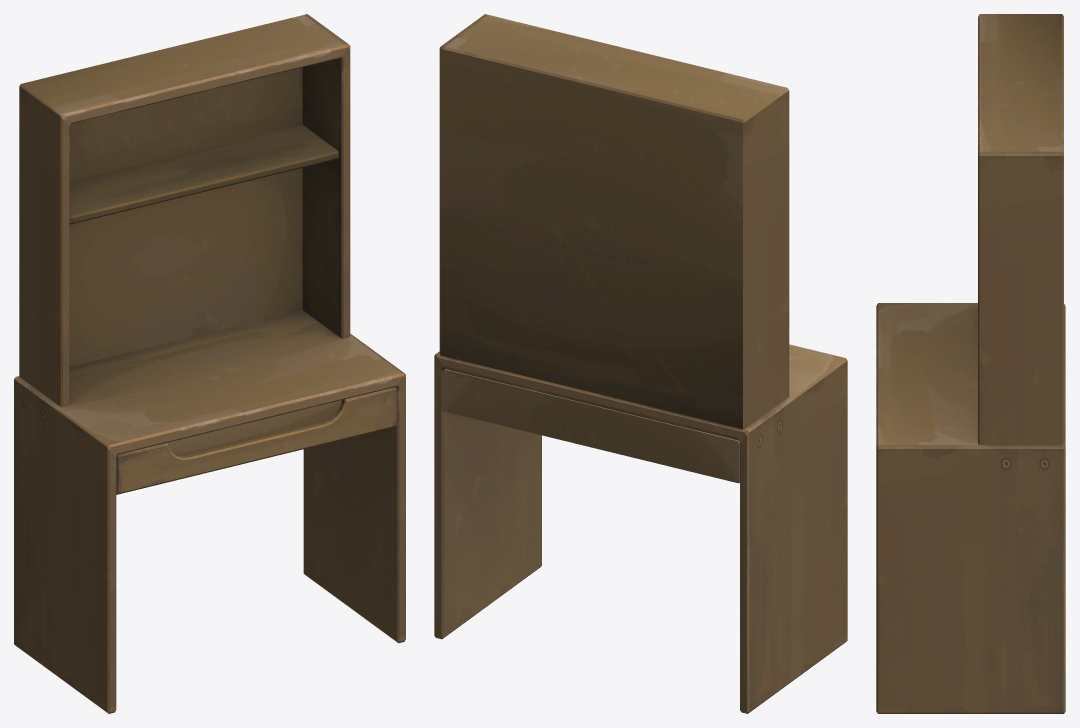
The model's file is Escritorio_H2.obj.
3 renders of one model, left to right at view 1: azimuth 30°, elevation 25°; view 2: azimuth 150°, elevation 25°; view 3: azimuth 270°, elevation 25°, orthographic. The views are drawn at different scales.
Parts seen in each view (by area): view 1: Escritorio_H2; view 2: Escritorio_H2; view 3: Escritorio_H2.
Part boxes in pixels (x1=…): Escritorio_H2: x1=14, y1=14, x2=405, y2=713; Escritorio_H2: x1=434, y1=14, x2=847, y2=713; Escritorio_H2: x1=876, y1=14, x2=1065, y2=713.
Bounding box in the file's own units: 0.656 × 1.18 × 0.3613.
Materials: 2 (2 with a texture image).
